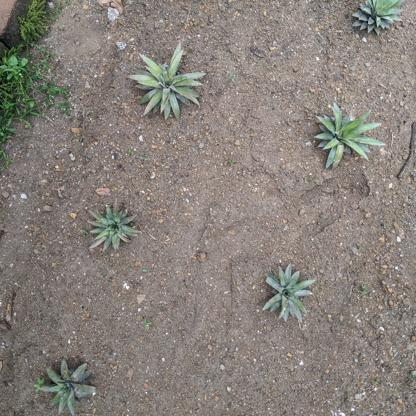pineapple: (124, 39, 206, 120), (311, 101, 388, 174), (258, 259, 318, 327), (32, 357, 97, 415), (84, 202, 146, 255), (348, 1, 407, 38)
